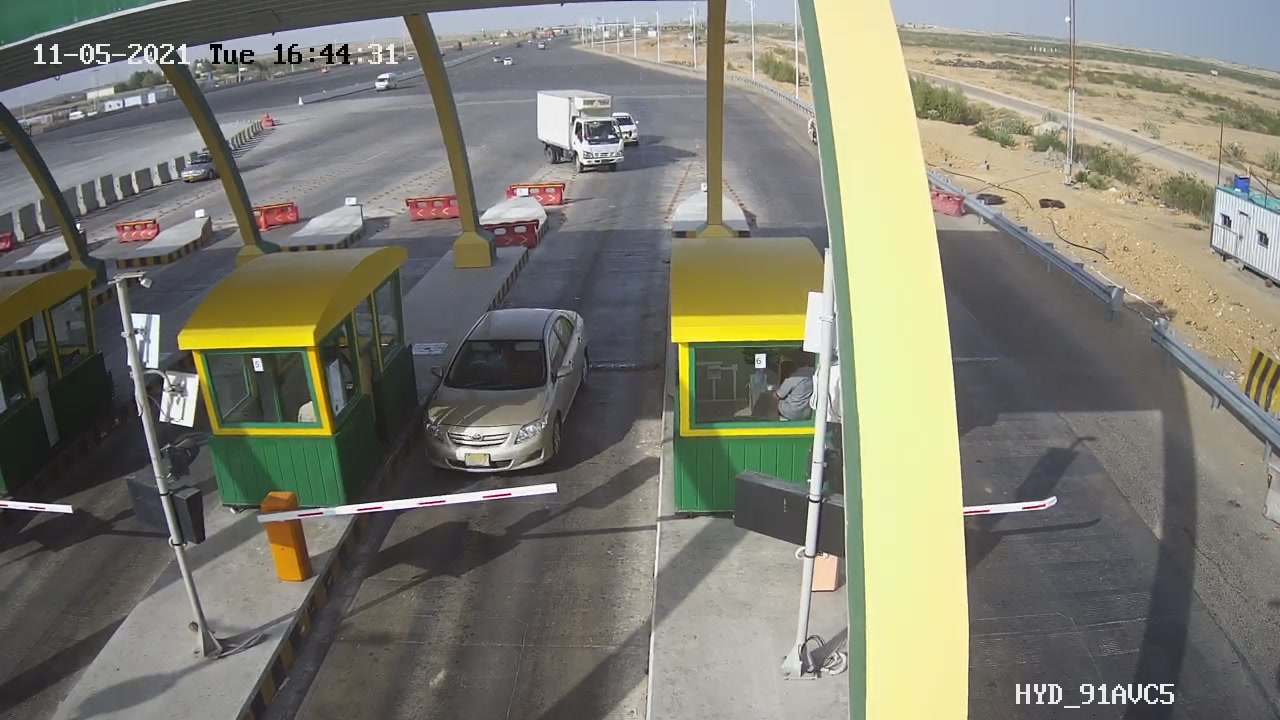F1: (384, 288, 618, 502)
